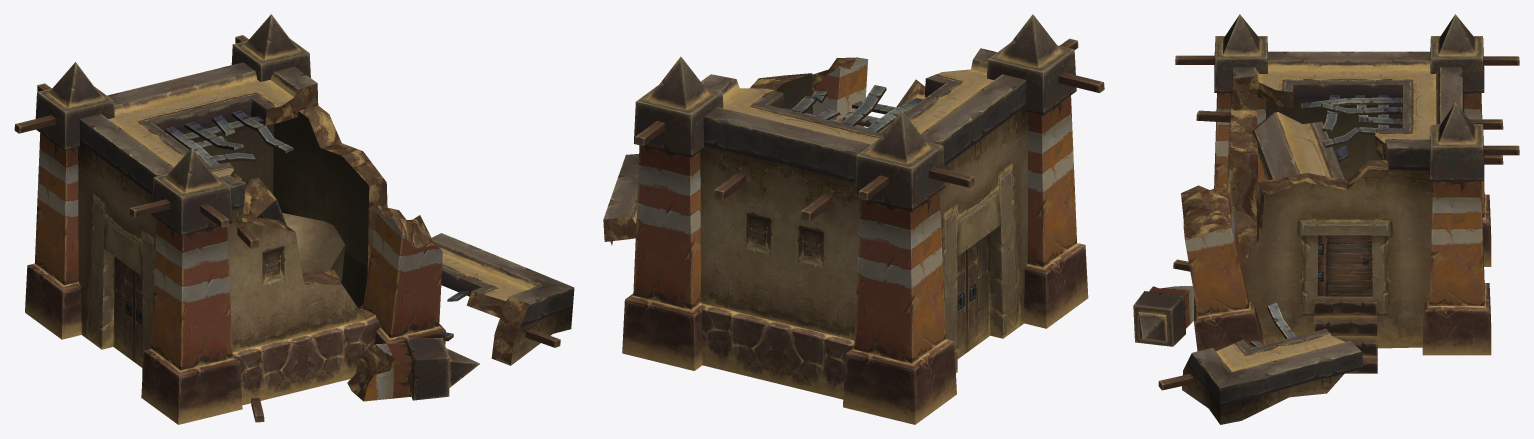
Rendered from building_shamo_jianzhu01_po.FBX.
3 views of the same model, side by side, from view 1: azimuth 30°, elevation 25°; view 2: azimuth 150°, elevation 25°; view 3: azimuth 270°, elevation 25° (orthographic). The views are drawn at different scales.
Parts seen in each view (by area): view 1: building_shamo_jianzhu01_po; view 2: building_shamo_jianzhu01_po; view 3: building_shamo_jianzhu01_po.
Boxes of the visible parts, x1,y1,x2,y2 form: building_shamo_jianzhu01_po: (14,14,574,424); building_shamo_jianzhu01_po: (603,14,1104,424); building_shamo_jianzhu01_po: (1133,14,1519,424).
Size of the model in its own units: 18.44 by 10.97 by 15.42.
